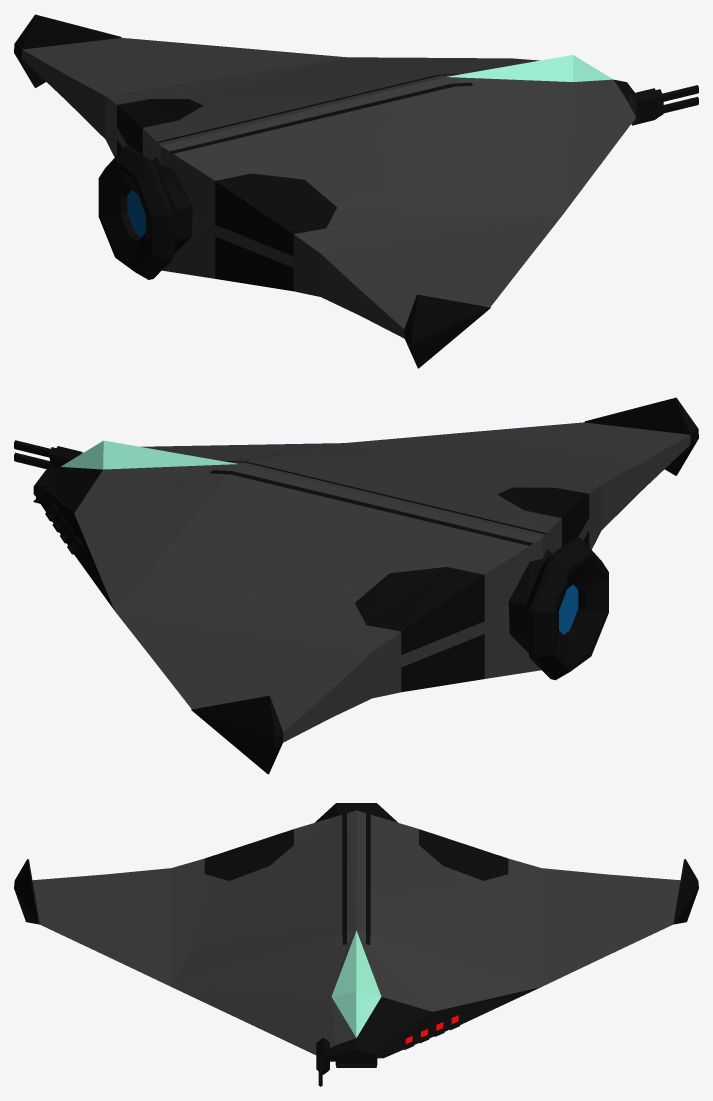
File: SM_PlayershipType1.FBX
The picture shows the model from 3 angles, top to bottom: view 1: azimuth 30°, elevation 25°; view 2: azimuth 150°, elevation 25°; view 3: azimuth 270°, elevation 25°; orthographic projection. The views are drawn at different scales.
Visible parts, largest first — view 1: Box001; view 2: Box001; view 3: Box001.
Boxes of the visible parts, x1,y1,x2,y2 form: Box001: (14,14,698,368); Box001: (14,397,698,774); Box001: (14,803,698,1086).
Bounding box in the file's own units: 91.87 × 19.66 × 115.
